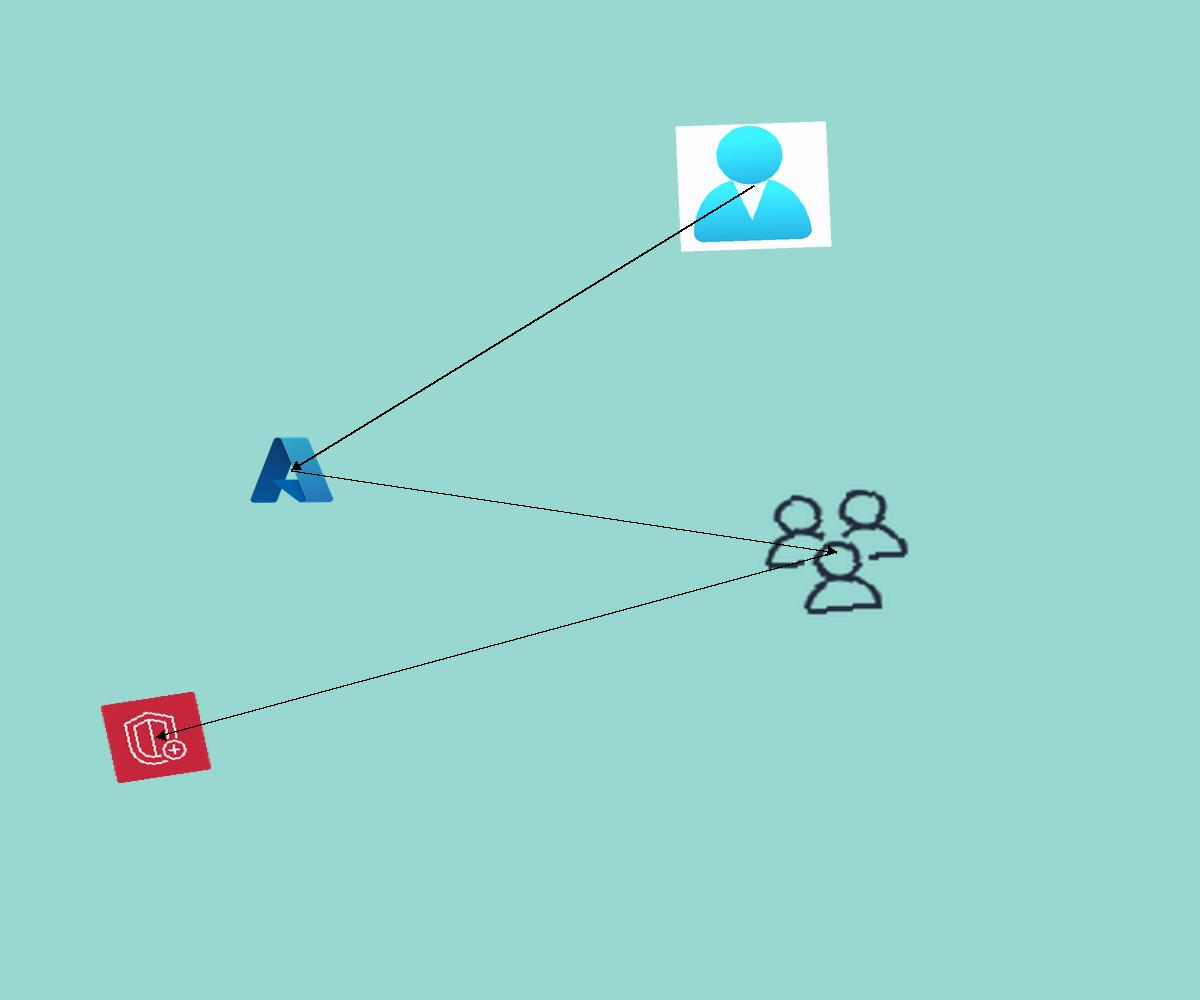AWS-Res_Users: (749, 479, 924, 625)
AWS-Shield: (100, 691, 212, 784)
Azure_services: (246, 432, 337, 508)
Azure_users: (675, 121, 832, 252)
